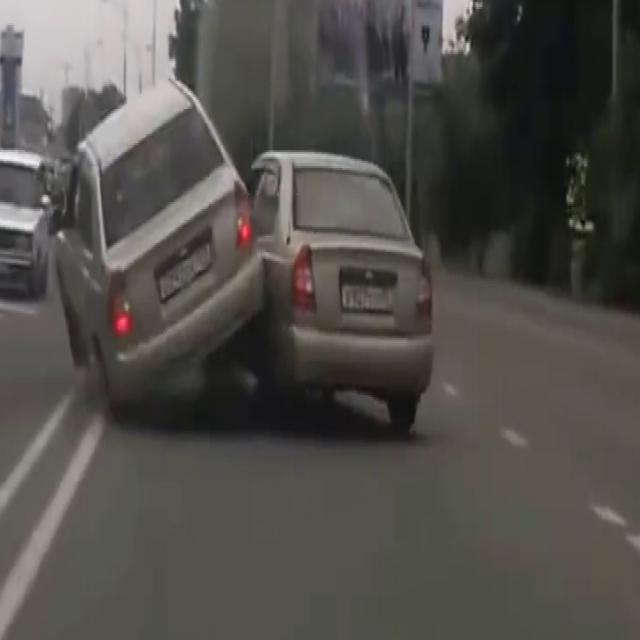accident: (42, 90, 436, 437)
